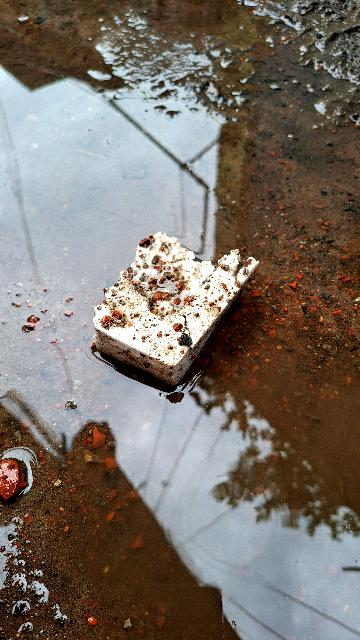cocksheet: (74, 195, 287, 394)
